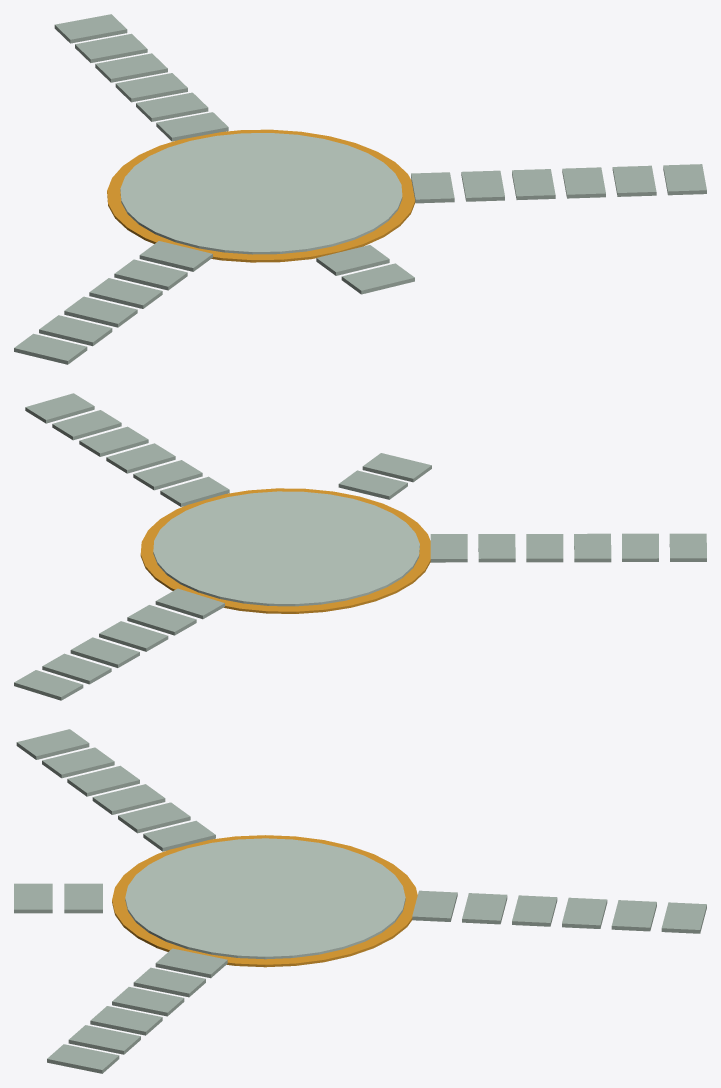
The model's file is stage_select_hub_plaza.obj.
The picture shows the model from 3 angles, top to bottom: view 1: azimuth 30°, elevation 25°; view 2: azimuth 150°, elevation 25°; view 3: azimuth 270°, elevation 25°; orthographic projection. The views are drawn at different scales.
Visible parts, largest first — view 1: stage_select_hub_plaza; view 2: stage_select_hub_plaza; view 3: stage_select_hub_plaza.
Part boxes in pixels (x1,y1,x2,y2): stage_select_hub_plaza: [14, 14, 706, 364]; stage_select_hub_plaza: [14, 393, 706, 700]; stage_select_hub_plaza: [14, 729, 706, 1073].
Bounding box in the file's own units: 42.61 × 0.34 × 36.59.
